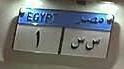1: (34, 29, 42, 49)
seen: (86, 36, 101, 54), (70, 36, 85, 52)
